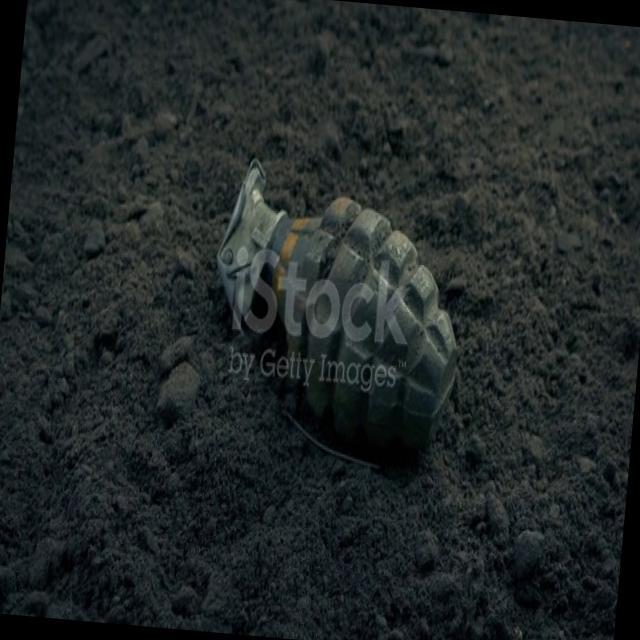grenade: (196, 149, 479, 490)
